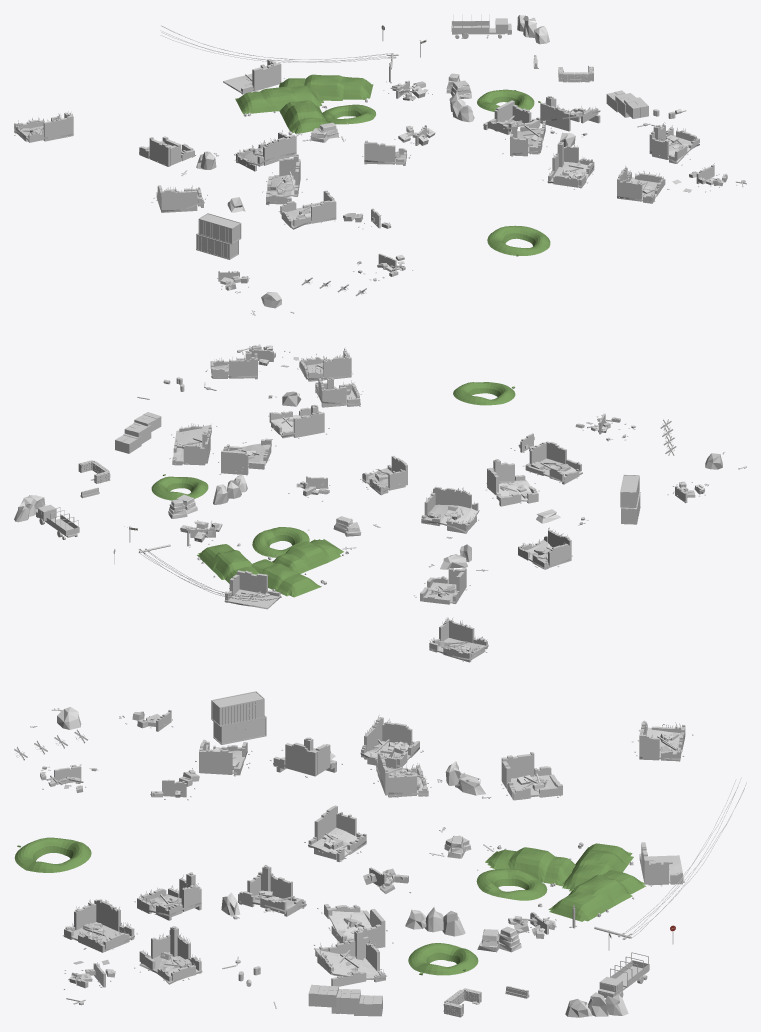
The model's file is outdoor_23.glb.
3 views of the same model, one above another, from view 1: azimuth 30°, elevation 25°; view 2: azimuth 150°, elevation 25°; view 3: azimuth 270°, elevation 25° (orthographic). The views are drawn at different scales.
Visible parts, largest first — view 1: gas_station_town; view 2: gas_station_town; view 3: gas_station_town.
Part boxes in pixels (x1,y1,x2,y2): gas_station_town: (14, 14, 746, 315); gas_station_town: (14, 344, 746, 662); gas_station_town: (14, 691, 746, 1017).
Size of the model in its own units: 90.83 by 10.06 by 90.23.
3 materials, 2 textured.
